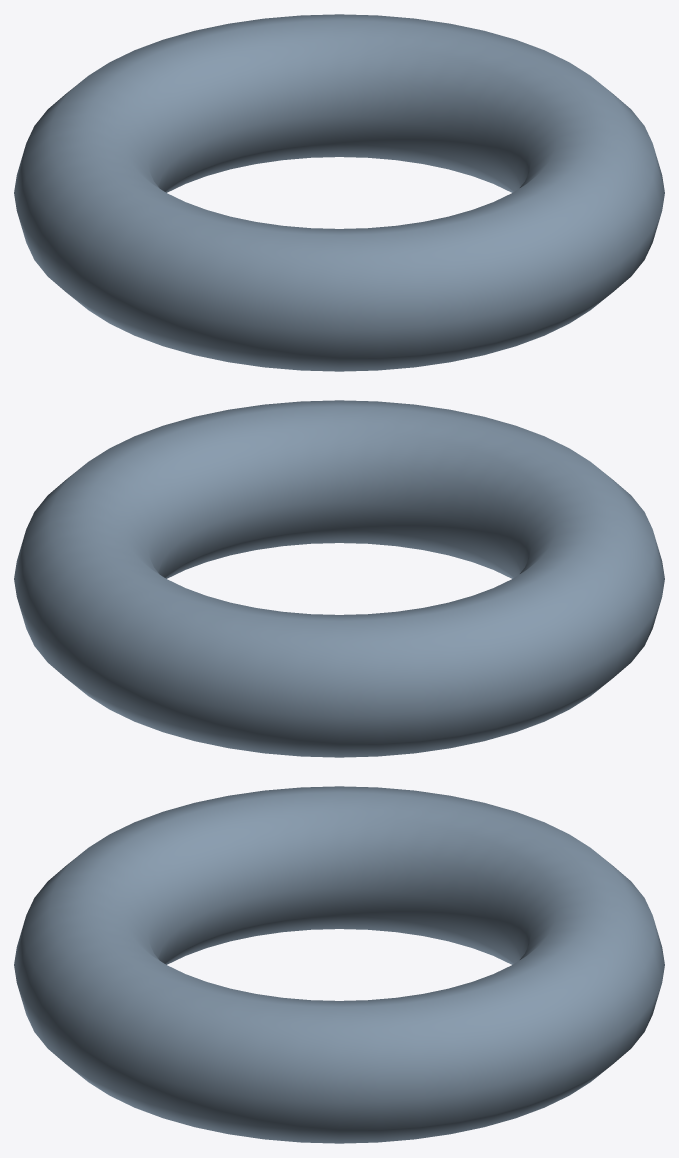
Rendered from bracelet.glb.
The picture shows the model from 3 angles, top to bottom: view 1: azimuth 30°, elevation 25°; view 2: azimuth 150°, elevation 25°; view 3: azimuth 270°, elevation 25°; orthographic projection.
Parts seen in each view (by area): view 1: BRACELET_BAND_PRIMARY; view 2: BRACELET_BAND_PRIMARY; view 3: BRACELET_BAND_PRIMARY.
Boxes of the visible parts, box(x1,y1,x2,y2) form: BRACELET_BAND_PRIMARY: box(14, 14, 664, 371); BRACELET_BAND_PRIMARY: box(14, 400, 664, 757); BRACELET_BAND_PRIMARY: box(14, 786, 664, 1143).
Bounding box in the file's own units: 2 × 0.44 × 2.
